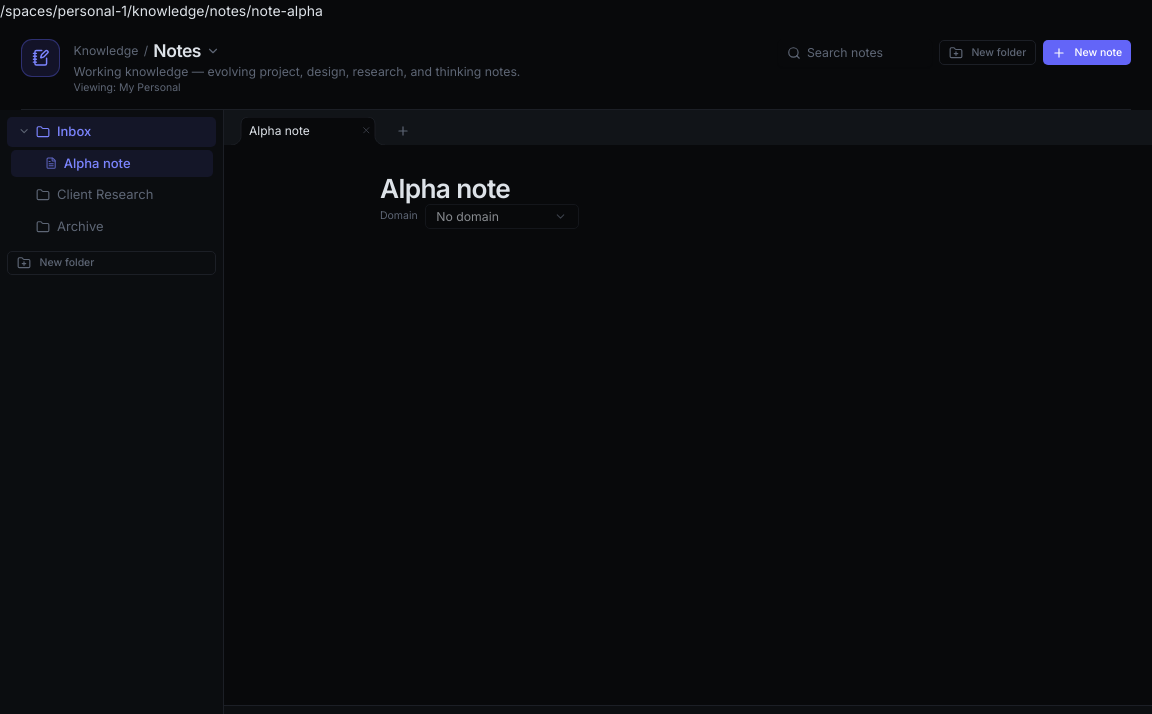
Knowledge routing › archives notes from the tree context menu and closes open tabs
This screenshot has width=1152, height=714.
Expected: the field showing "Alpha note" is shown, [380,172,996,204]
Step 1. Right-click the button "Alpha note" → [112, 163], box [10,150,212,176]
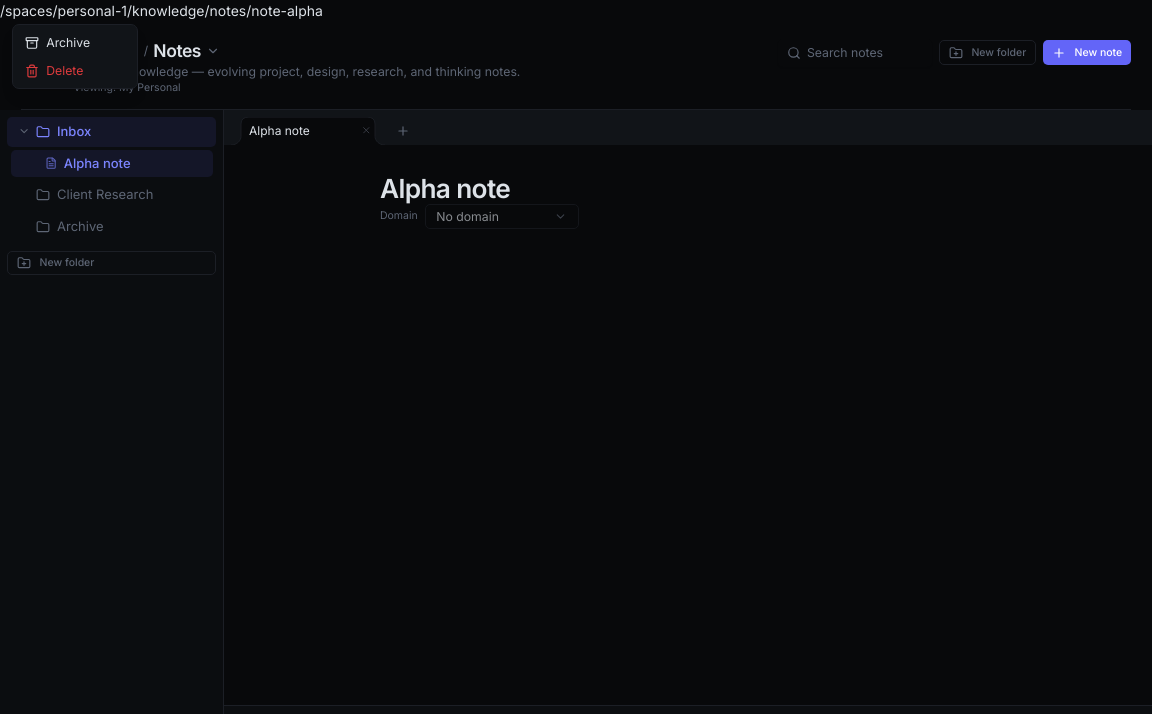
Step 2. Click the menu item "Archive" → [75, 42], box [16,28,134,56]
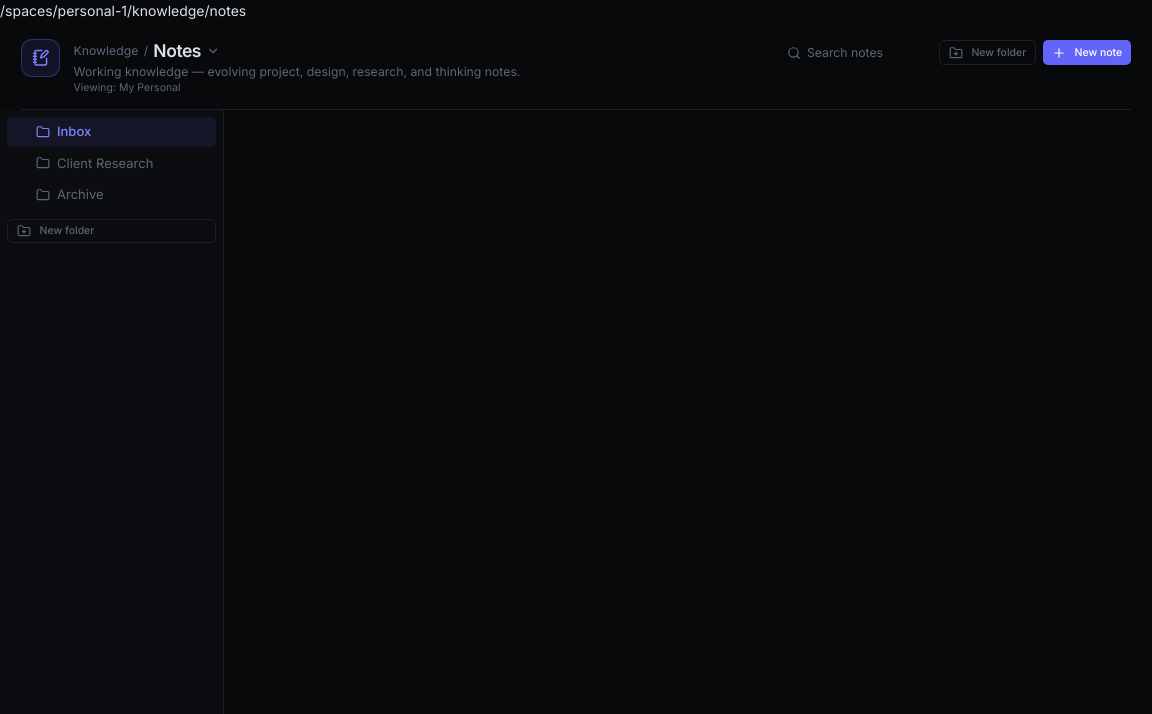
Expected: the text with test id "loc" reads "/spaces/personal-1/knowledge/notes", [0,2,246,19]
Now the button "Alpha note" is gone
